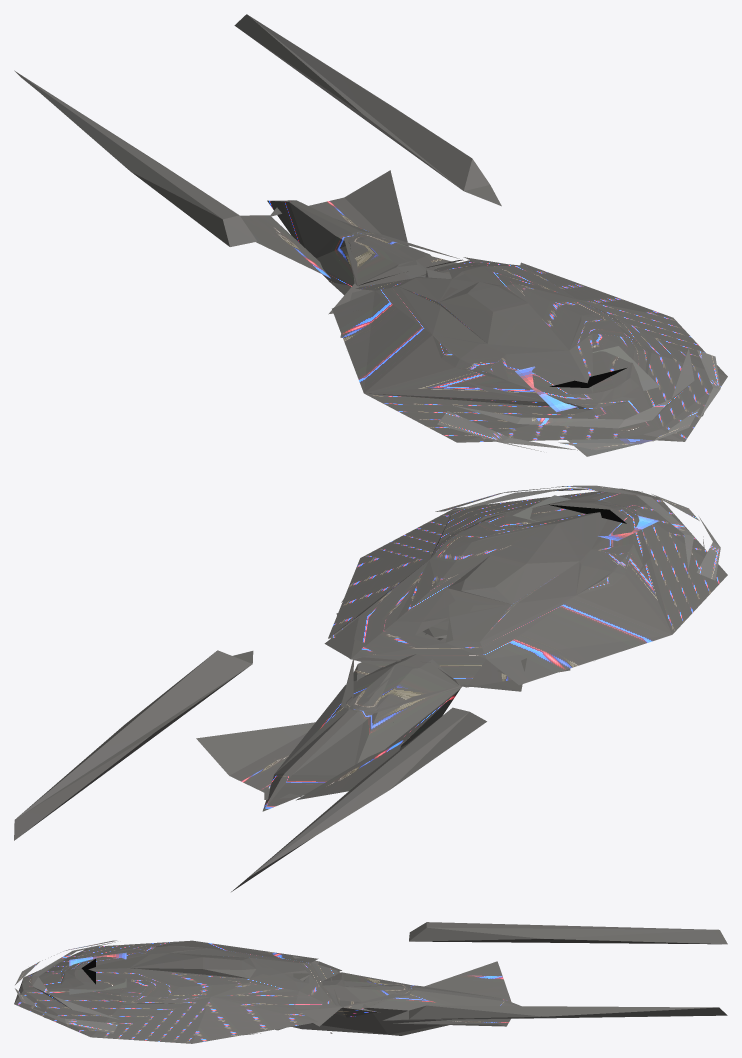
3 views of the same model, one above another, from view 1: azimuth 30°, elevation 25°; view 2: azimuth 150°, elevation 25°; view 3: azimuth 270°, elevation 25° (orthographic). The views are drawn at different scales.
Visible parts, largest first — view 1: Object_4; view 2: Object_4; view 3: Object_4.
Boxes of the visible parts, left/top/right/bottom form: Object_4: left=14, top=14, right=727, bottom=456; Object_4: left=14, top=485, right=727, bottom=891; Object_4: left=14, top=922, right=727, bottom=1043.
Size of the model in its own units: 16.91 by 5.55 by 49.33.
